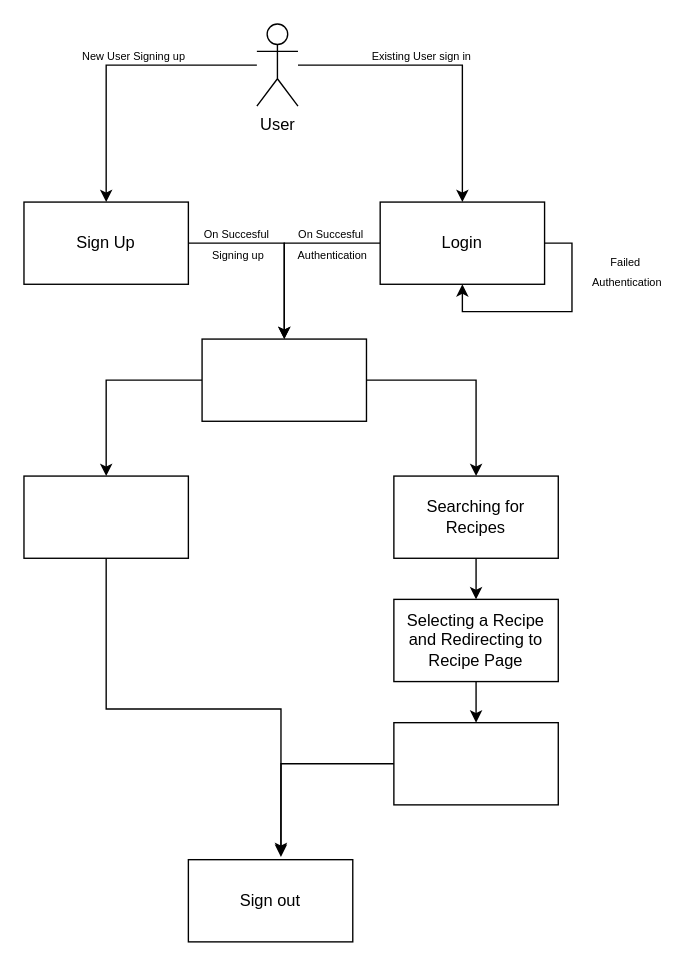
Image size: 699x966. Some labels were removed from this diagram. The centre of each missing label's shape, as x and y in pixels:
Adding Own Recipies: (x=105, y=516)
Home Page: (x=283, y=379)
Liking, Sharing, Commenting on the Recipe: (x=475, y=763)
